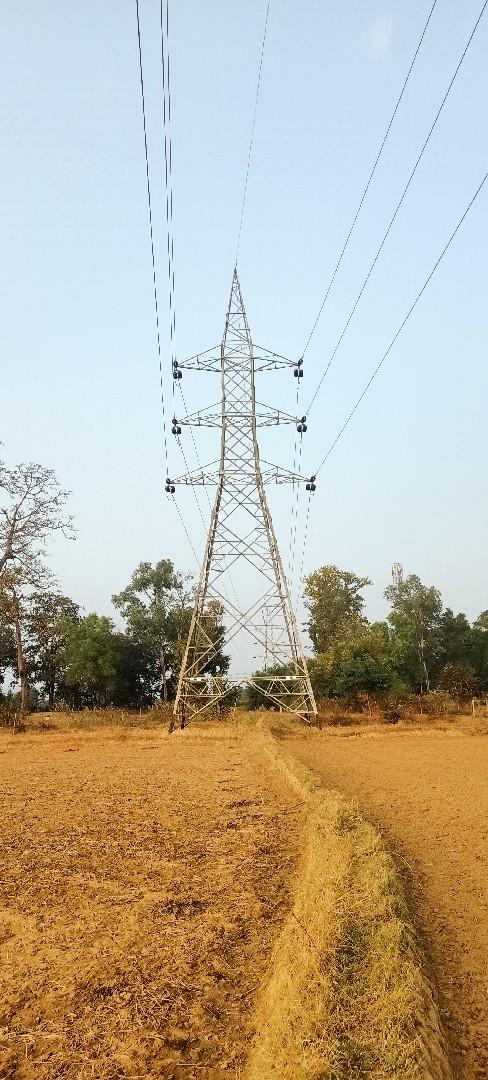GSM Antenna: (154, 262, 333, 701)
